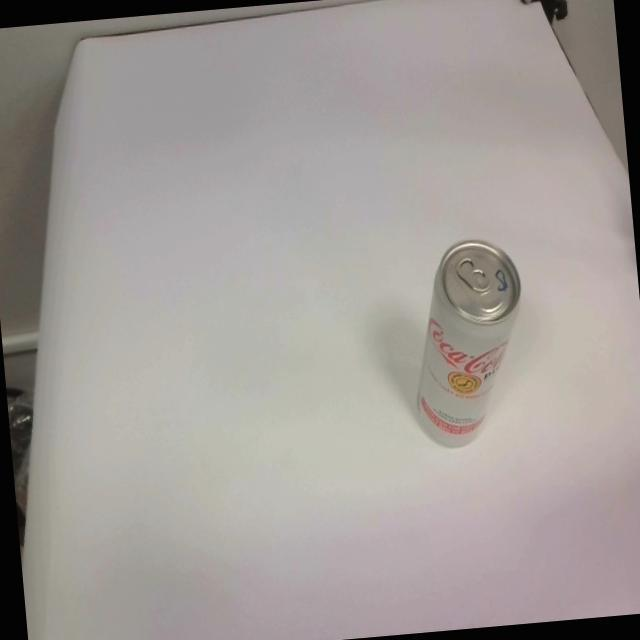debris: (398, 233, 534, 451)
